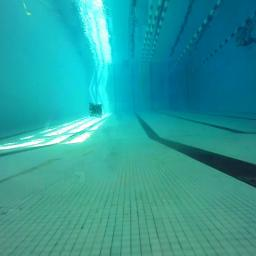front: (90, 102, 102, 118)
